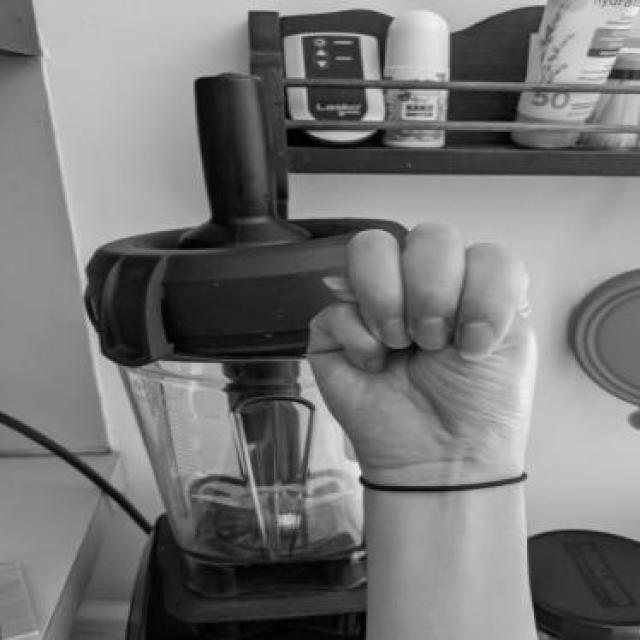M: (290, 215, 554, 475)
